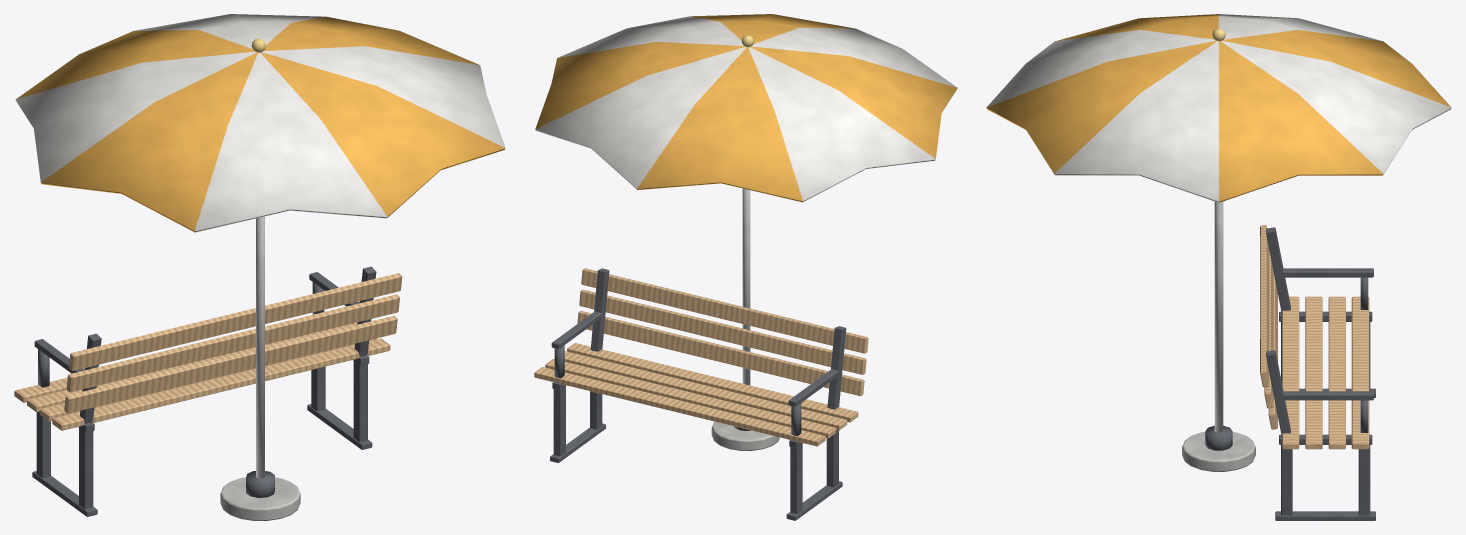
File: Rig_SunUmbrella.fbx
The picture shows the model from 3 angles, left to right: view 1: azimuth 30°, elevation 25°; view 2: azimuth 150°, elevation 25°; view 3: azimuth 270°, elevation 25°; orthographic projection. The views are drawn at different scales.
Parts seen in each view (by area): view 1: Calor_SunUmbrellaBench__Canopy, Calor_SunUmbrellaBench__Bench; view 2: Calor_SunUmbrellaBench__Canopy, Calor_SunUmbrellaBench__Bench; view 3: Calor_SunUmbrellaBench__Canopy, Calor_SunUmbrellaBench__Bench.
Part boxes in pixels (left/top/right/bottom): Calor_SunUmbrellaBench__Canopy: left=15, top=14, right=505, bottom=232; Calor_SunUmbrellaBench__Bench: left=14, top=216, right=402, bottom=520; Calor_SunUmbrellaBench__Canopy: left=535, top=14, right=957, bottom=202; Calor_SunUmbrellaBench__Bench: left=534, top=188, right=868, bottom=520; Calor_SunUmbrellaBench__Canopy: left=986, top=14, right=1451, bottom=202; Calor_SunUmbrellaBench__Bench: left=1182, top=201, right=1375, bottom=520.
Size of the model in its own units: 2.4 by 2.43 by 2.4.
